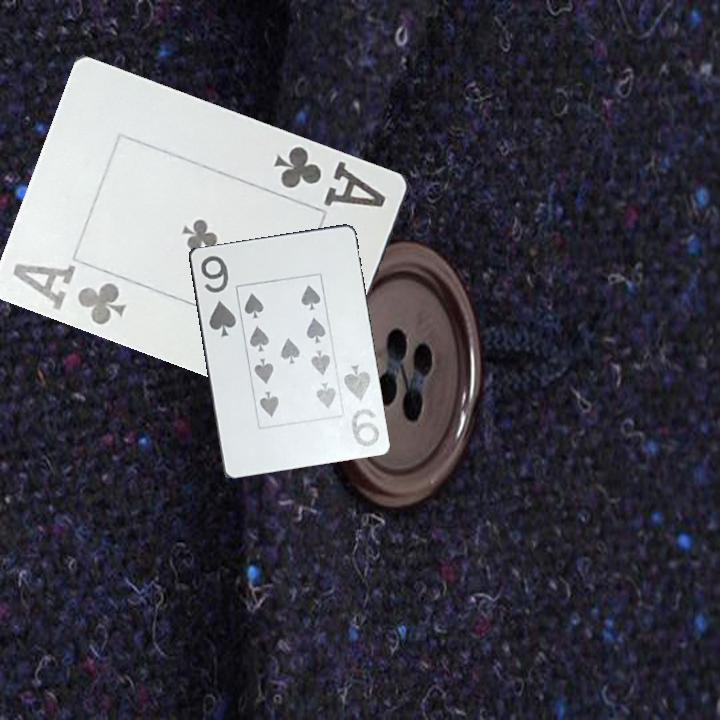9s: (339, 361, 382, 449), (197, 252, 239, 340)
Ac: (270, 139, 390, 210), (9, 259, 130, 328)
